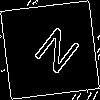N: (25, 25, 83, 84)
